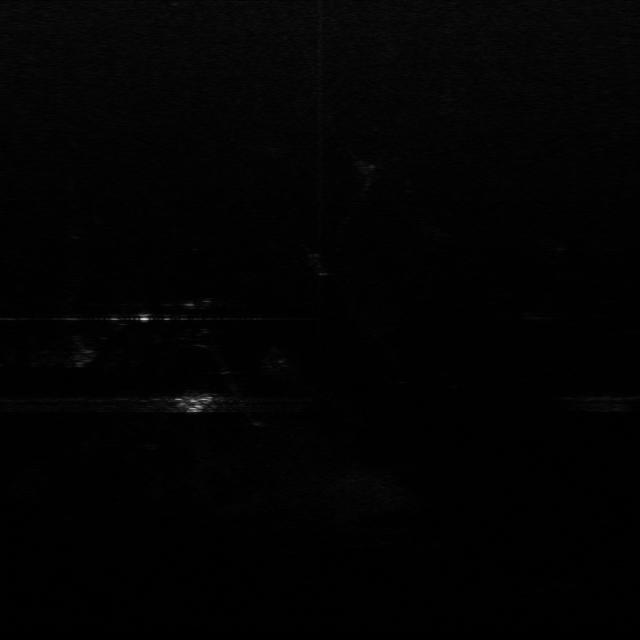rov: (171, 392, 218, 416)
